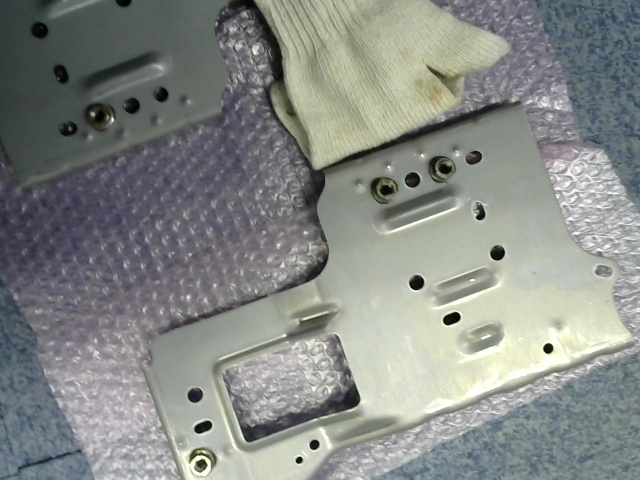dog: (84, 103, 116, 132), (187, 448, 217, 478), (370, 177, 399, 205), (428, 155, 456, 184)
